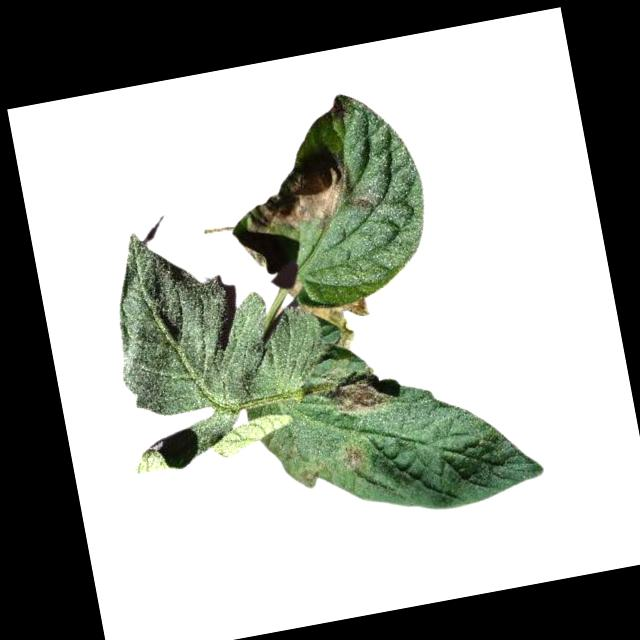Late_blight: (240, 154, 358, 241), (293, 291, 376, 356), (327, 368, 395, 420), (339, 441, 370, 471)
